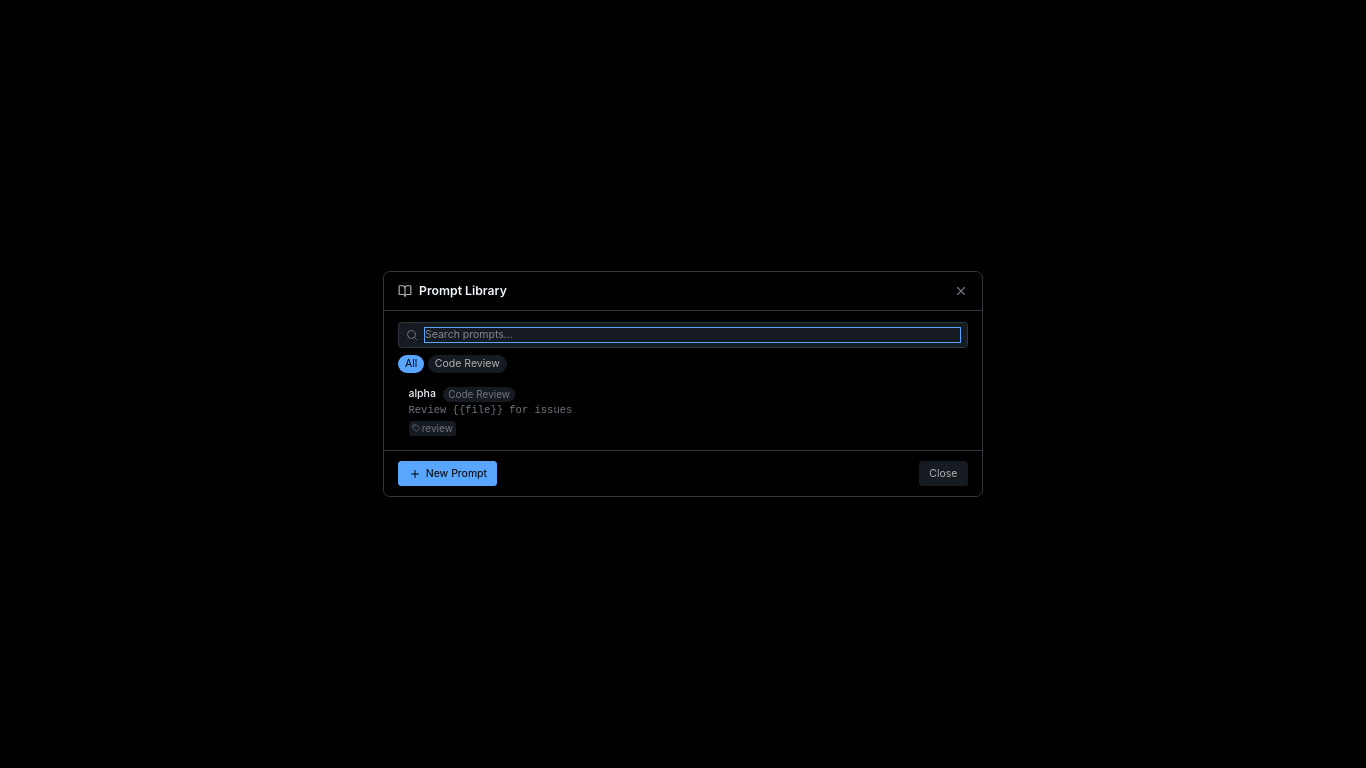
Scenario: PromptLibraryDialog › filters prompts by search query with null description
This screenshot has width=1366, height=768.
Step 1. Type "nonexistent" into the field with placeholder "Search prompts..." → {"x": 692, "y": 335}, box [425,328,960,342]
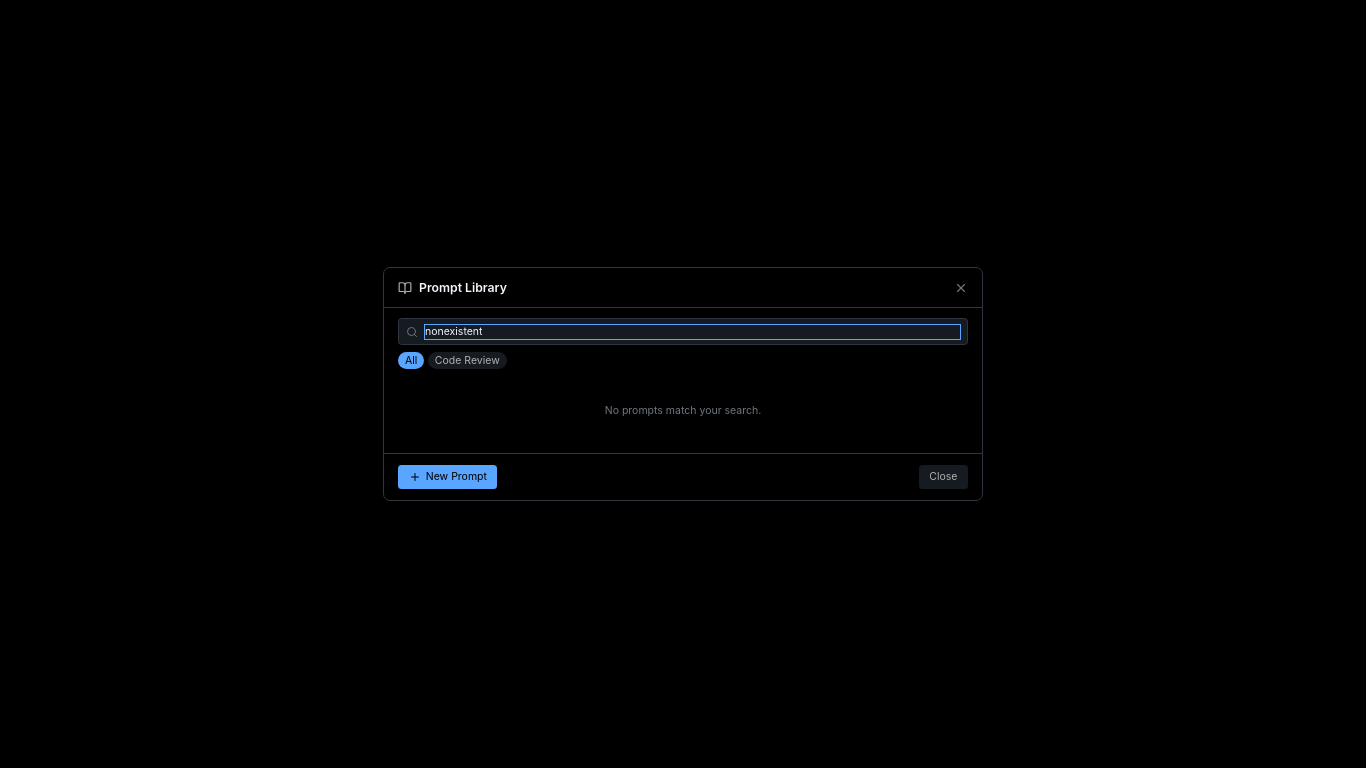
Expected: the button "alpha" is gone
